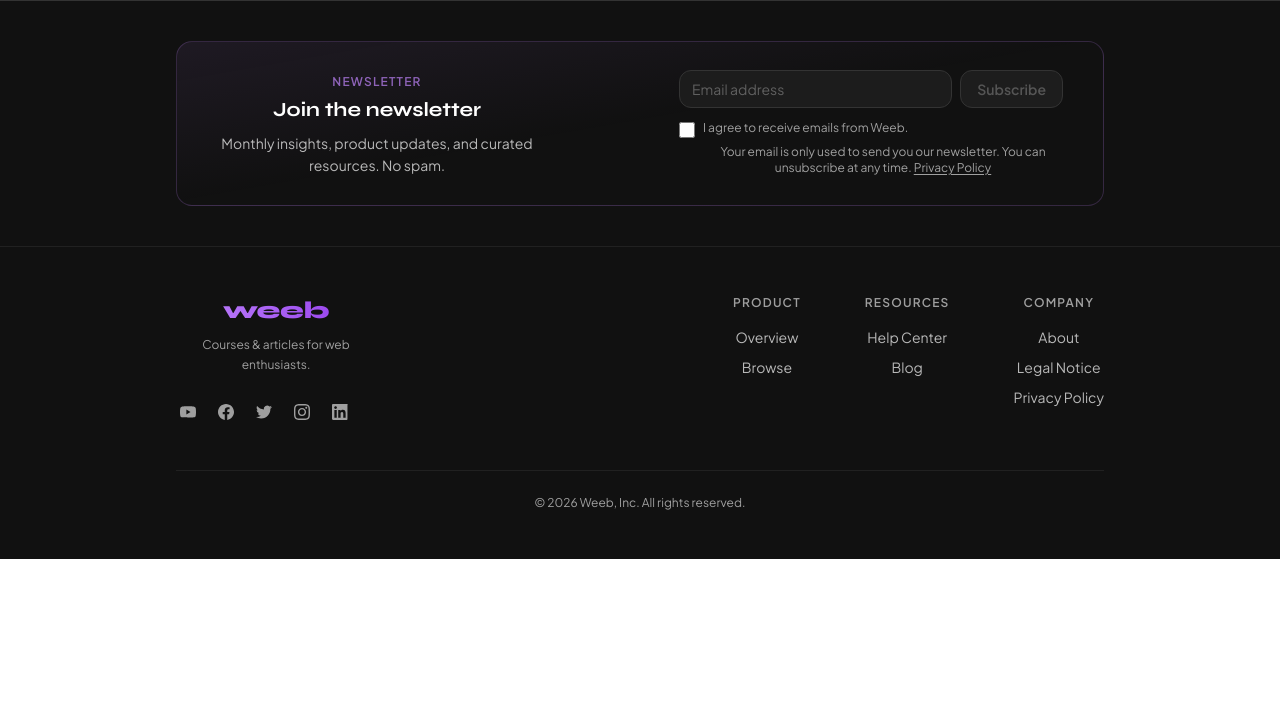
Footer › submits newsletter and shows success state
Step 1. Type " test@example.com " into the field labelled "Email address" → (816, 89), box x1=679 y1=70 x2=952 y2=108
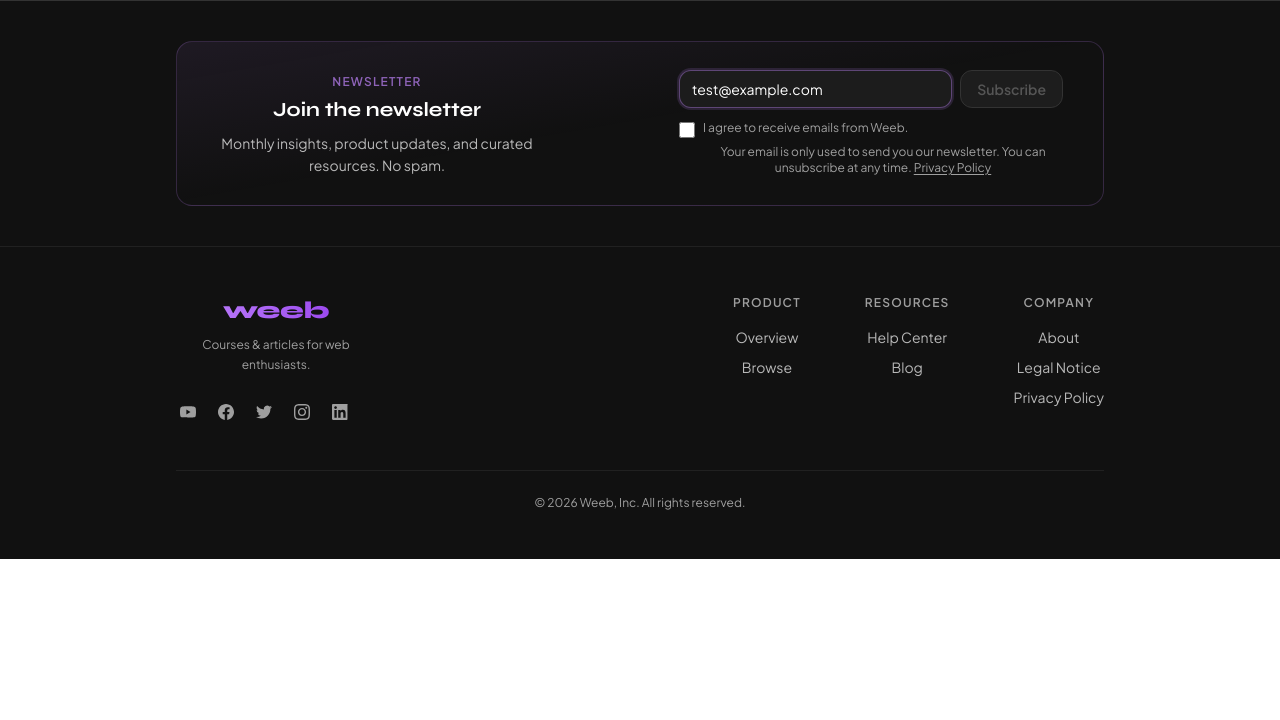
Step 2. Click the checkbox labelled "I agree to receive emails from Weeb." → (687, 130), box x1=679 y1=122 x2=695 y2=138
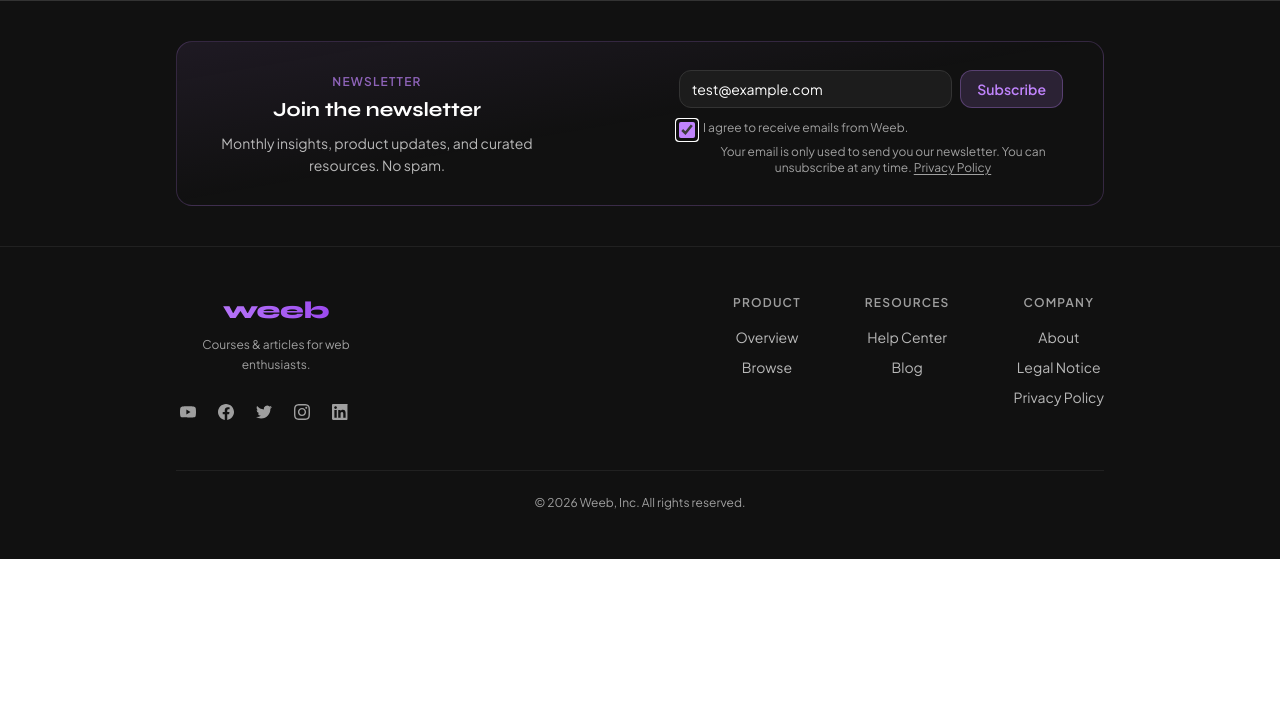
Step 3. Click the button "Subscribe" → (1012, 89), box x1=960 y1=70 x2=1063 y2=108
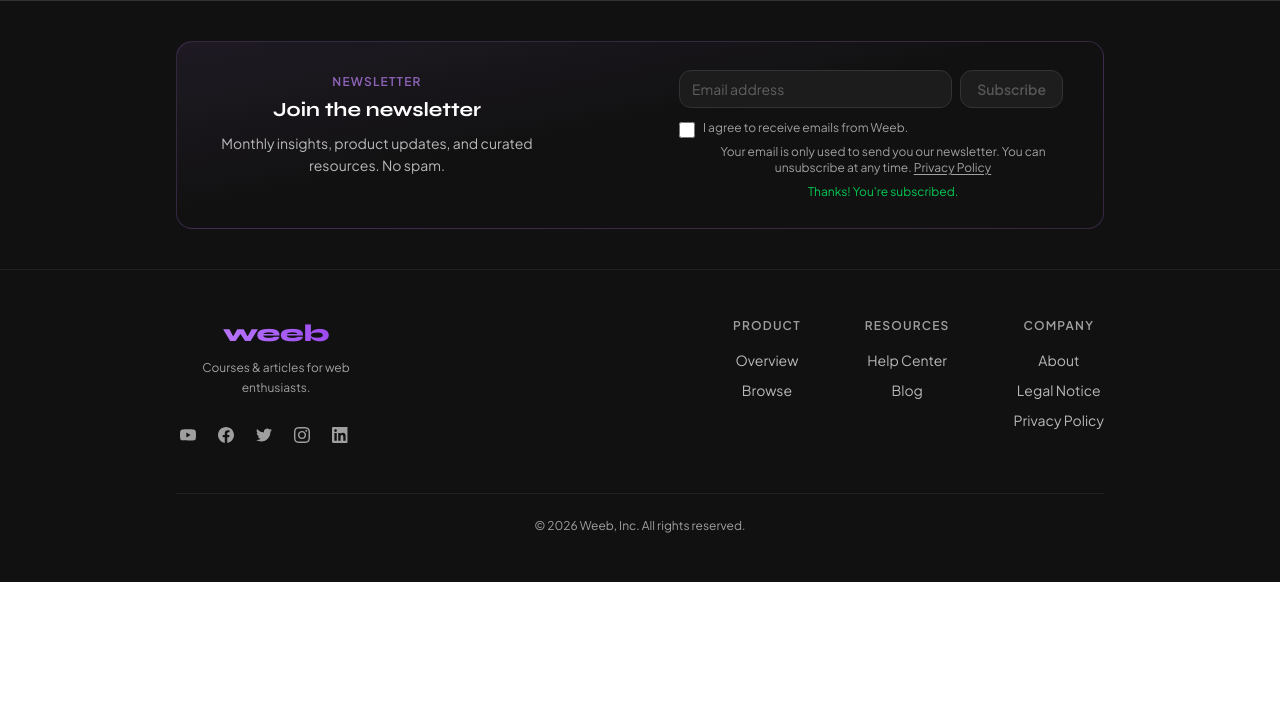
Expected: the text "Thanks! You're subscribed." is shown, x1=808 y1=184 x2=958 y2=199
